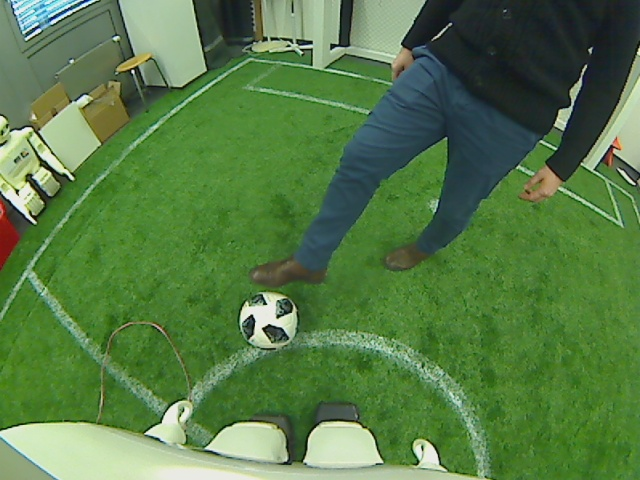ball: (236, 290, 298, 350)
